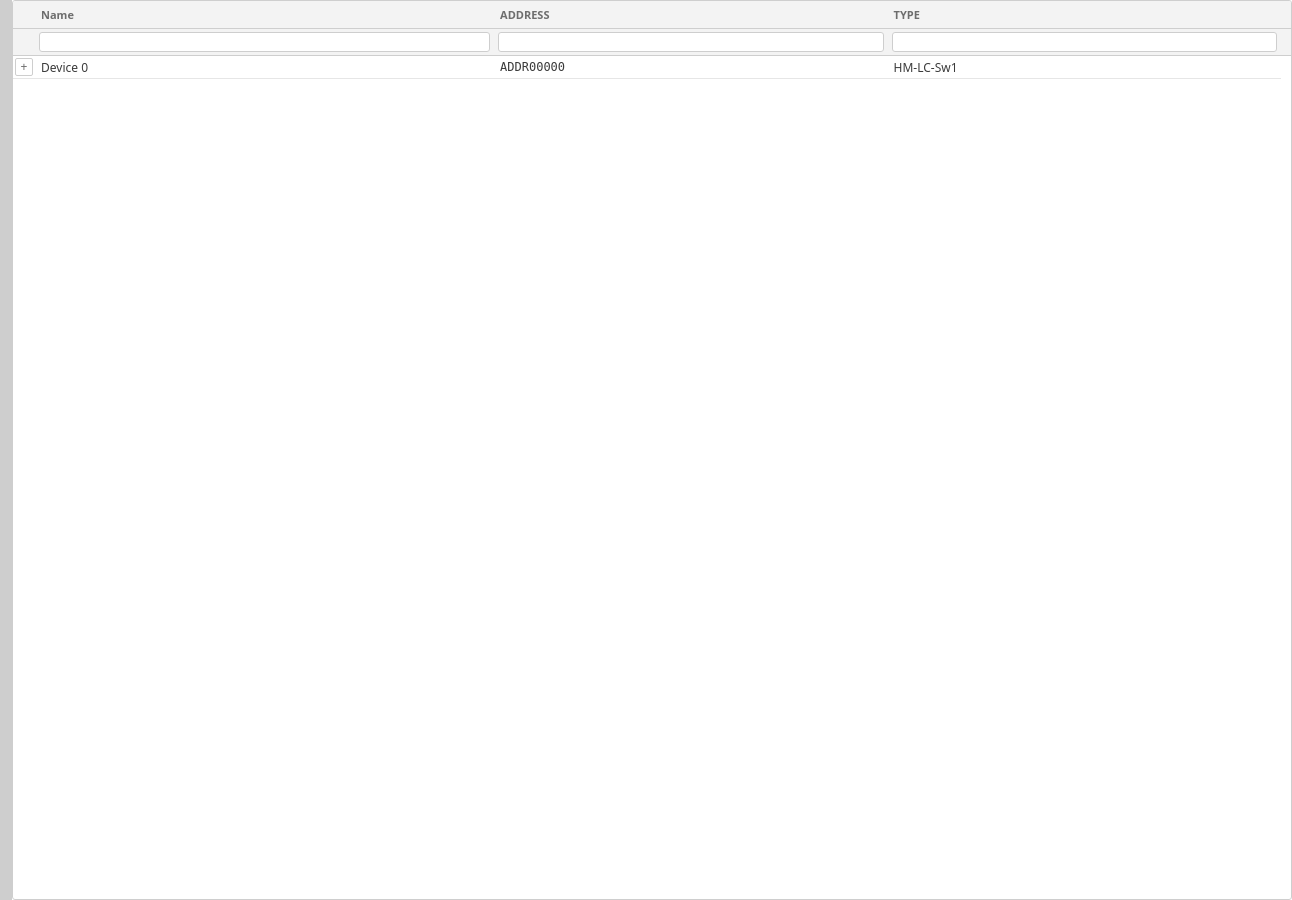
the channel sub-grid › draws the sub-rows with their own columns under their own label row
The image size is (1292, 900).
Click the button named "Expand row".
click(24, 67)  # box 15,58 -> 33,76
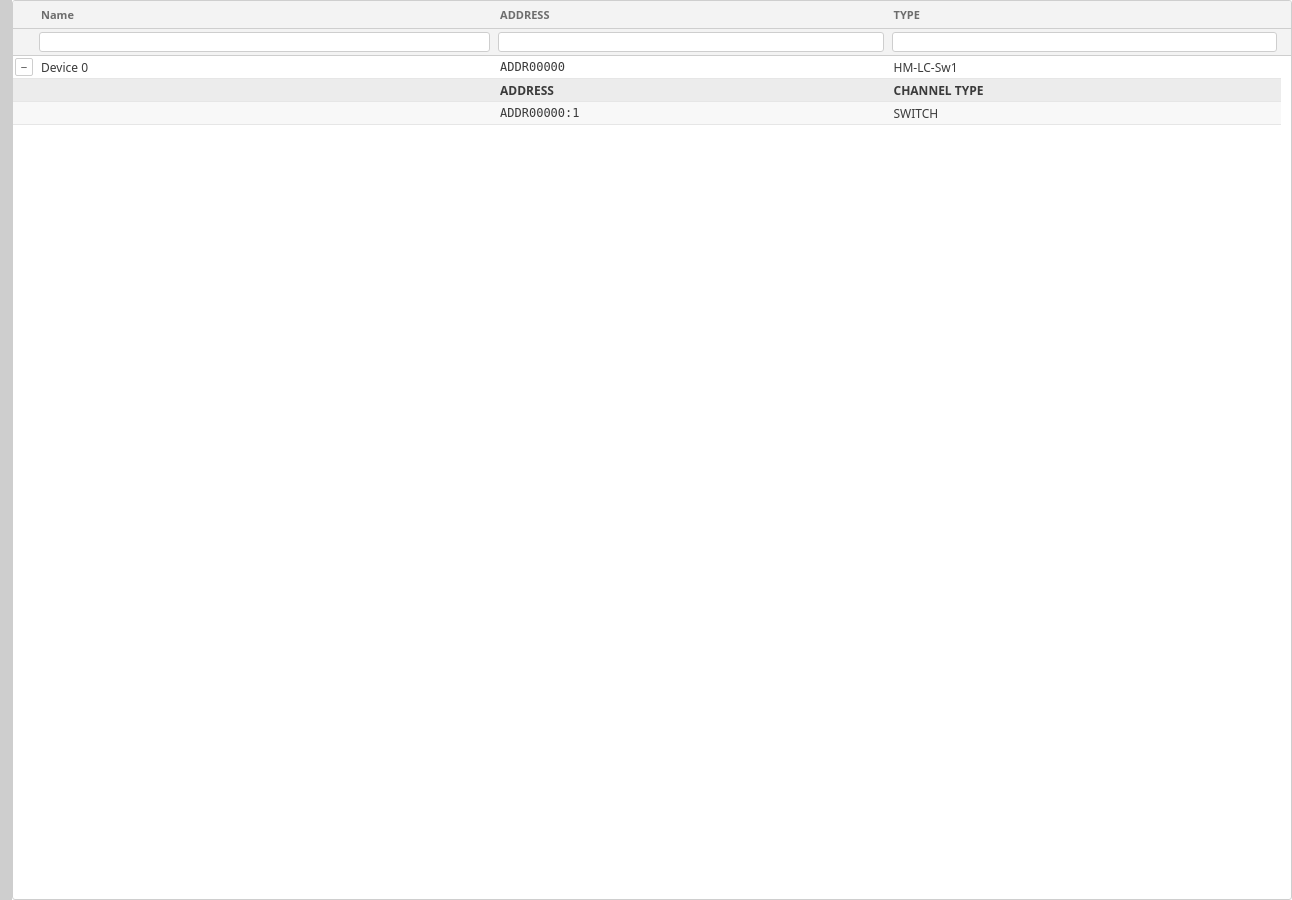
Check: the text "CHANNEL TYPE" is shown, box 894,82 -> 983,98
Check: the cell "ADDR00000:1" is shown, box 500,106 -> 580,120
Check: the text "SWITCH" is shown, box 894,104 -> 938,122
